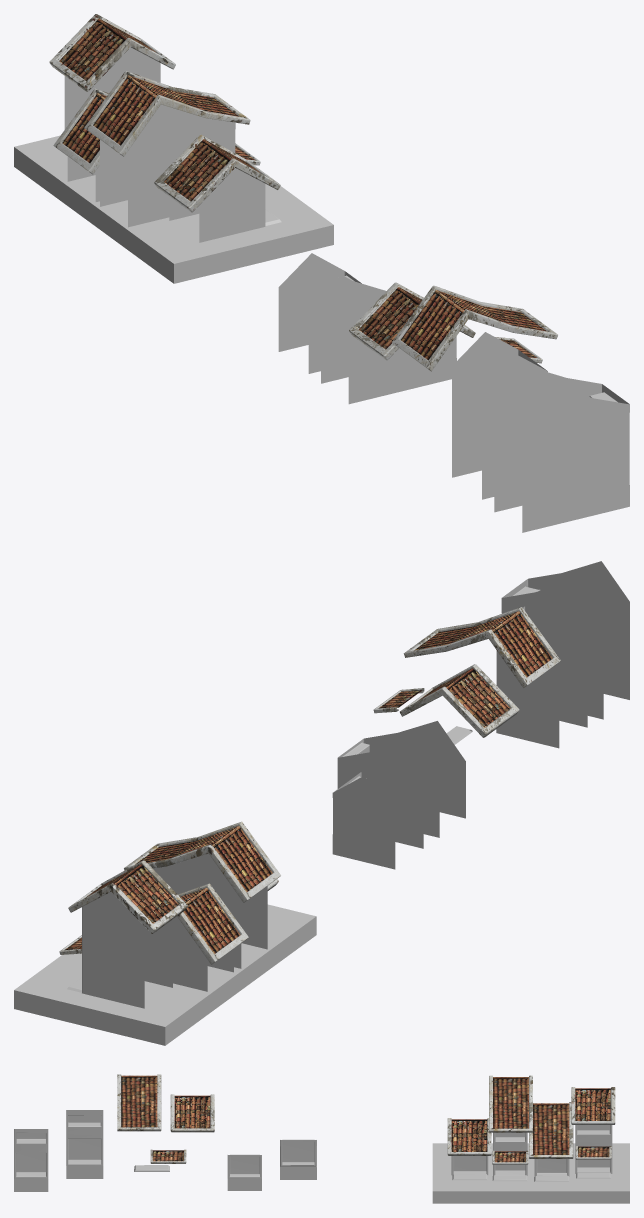
The model's file is modular_2.fbx.
The picture shows the model from 3 angles, top to bottom: view 1: azimuth 30°, elevation 25°; view 2: azimuth 150°, elevation 25°; view 3: azimuth 270°, elevation 25°; orthographic projection. The views are drawn at different scales.
Parts seen in each view (by area): view 1: pavement5; view 2: pavement5; view 3: pavement5.
Part boxes in pixels (<box>): pavement5: <box>14,14,629,532</box>; pavement5: <box>14,561,629,1045</box>; pavement5: <box>14,1074,629,1203</box>.
Bounding box in the file's own units: 10.89 × 9.44 × 55.95.
